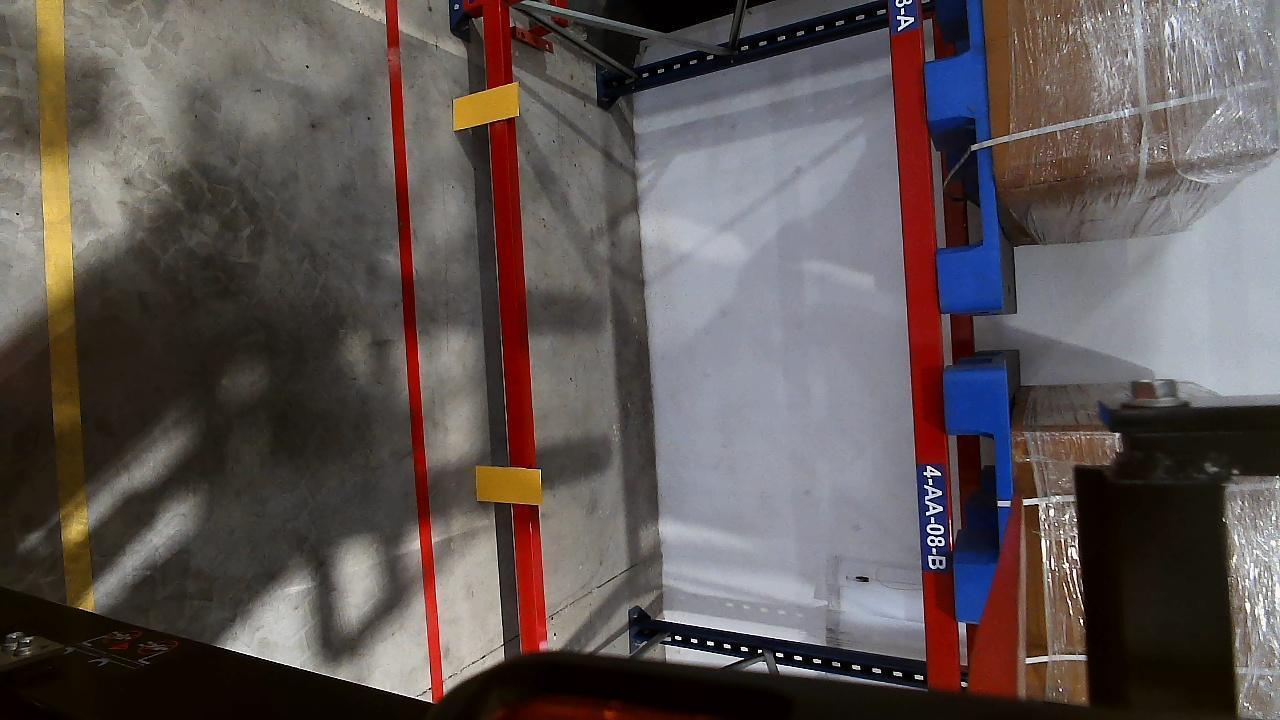red_line: (384, 3, 448, 679)
yellow_line: (39, 1, 109, 606)
